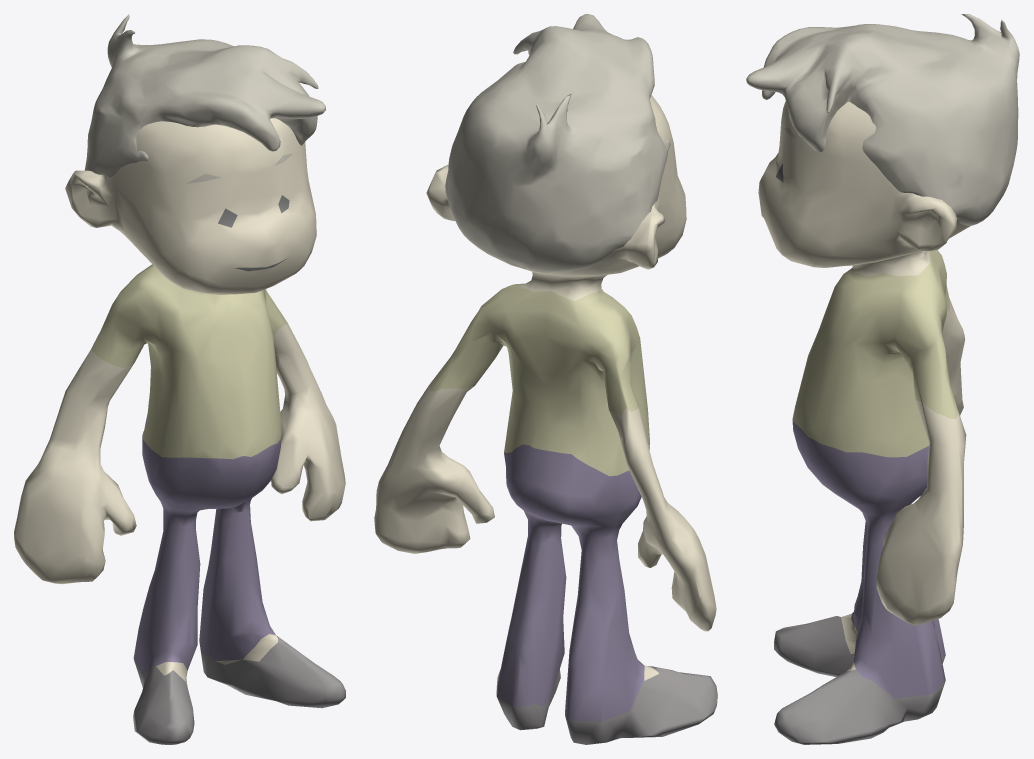
Rendered from yakiimo.fbx.
The picture shows the model from 3 angles, left to right: view 1: azimuth 30°, elevation 25°; view 2: azimuth 150°, elevation 25°; view 3: azimuth 270°, elevation 25°; orthographic projection. The views are drawn at different scales.
Visible parts, largest first — view 1: PM3D_Sphere3D1_3; view 2: PM3D_Sphere3D1_3; view 3: PM3D_Sphere3D1_3.
Boxes of the visible parts, left/top/right/bottom form: PM3D_Sphere3D1_3: left=14, top=14, right=345, bottom=744; PM3D_Sphere3D1_3: left=374, top=14, right=717, bottom=744; PM3D_Sphere3D1_3: left=746, top=14, right=1019, bottom=744.
Size of the model in its own units: 5.06 by 9.77 by 3.56.
